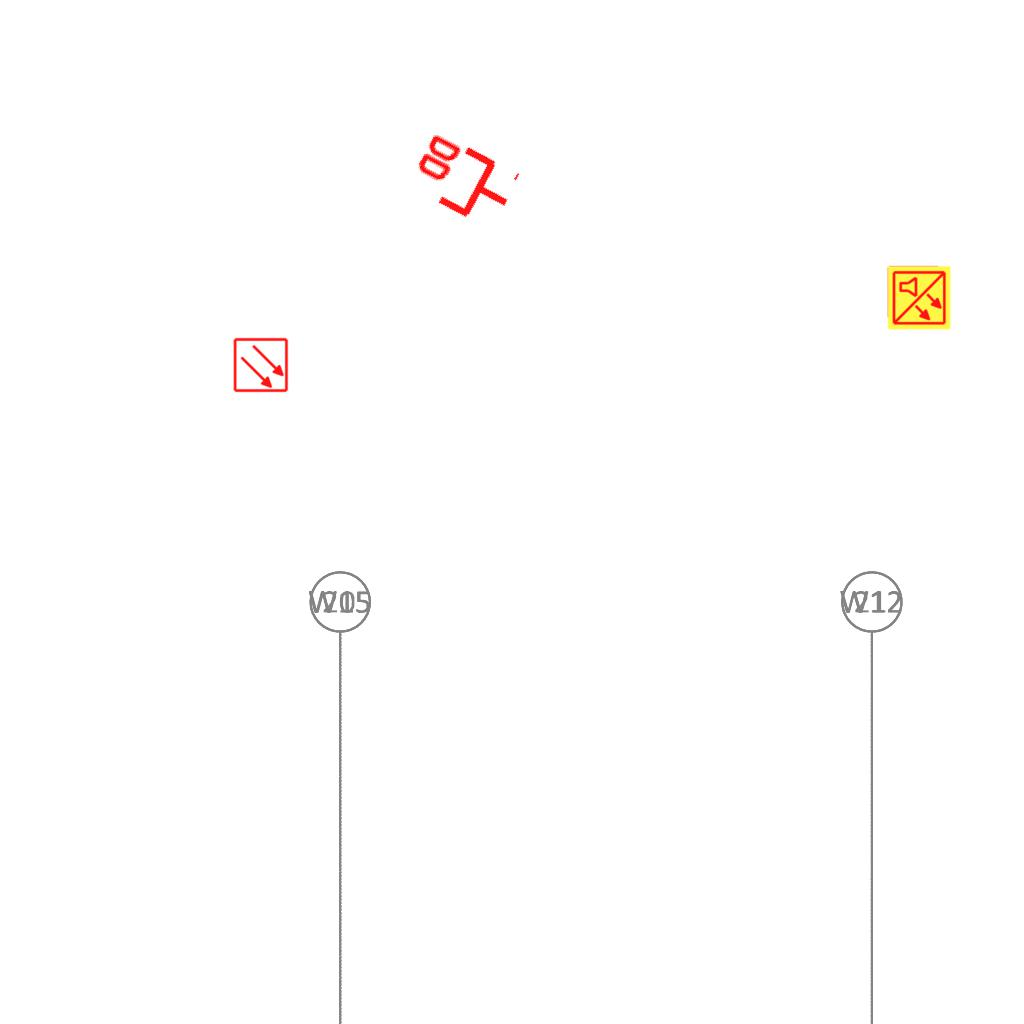Datenanschluss_zweifach: (400, 126, 525, 237)
OKW_Multisensormelder_(Kombination_optischer_Rauch-Kahlenmonoxid_Waerme-Melder): (886, 265, 952, 331)
RMO_Rauchmelder_optischer: (233, 337, 289, 393)
